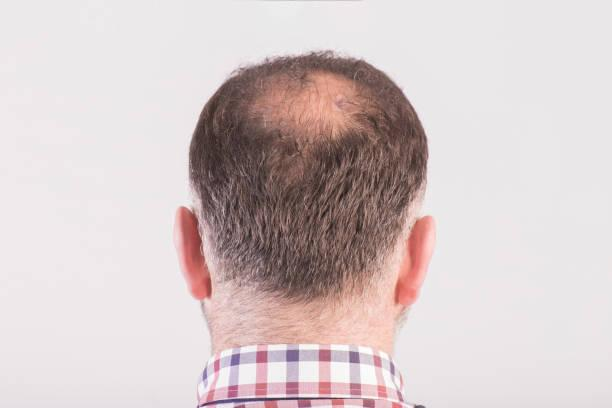low hair density: (245, 60, 365, 144)
